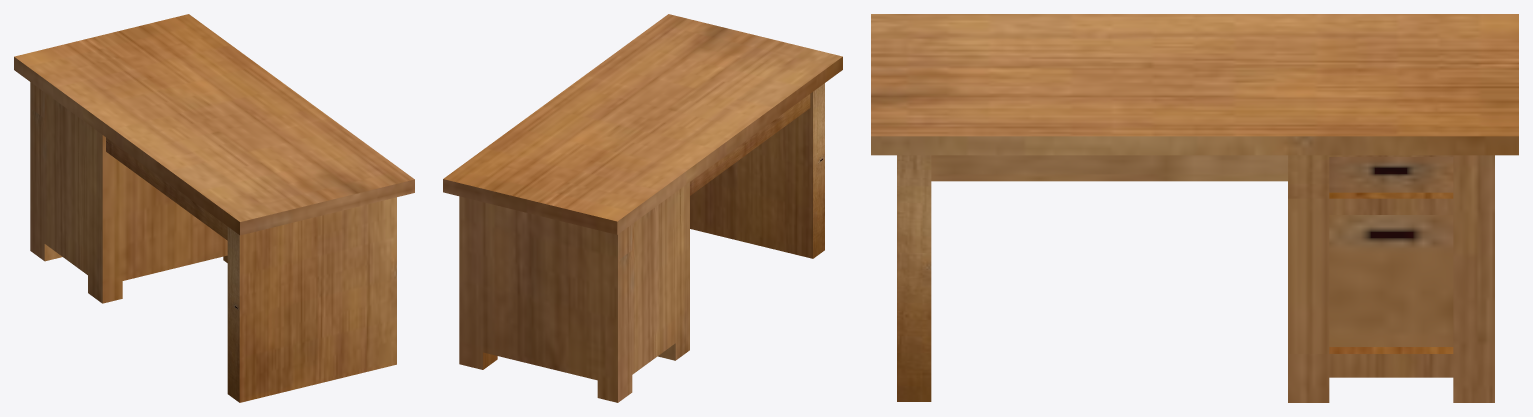
File: table (1).fbx
3 renders of one model, left to right at view 1: azimuth 30°, elevation 25°; view 2: azimuth 150°, elevation 25°; view 3: azimuth 270°, elevation 25°, orthographic. The views are drawn at different scales.
Visible parts, largest first — view 1: Cube, Cube.001, Cube.002, Cube.003; view 2: Cube, Cube.002, Cube.001, Cube.003; view 3: Cube, Cube.002, Cube.003, Cube.001.
Boxes of the visible parts, box(x1,y1,x2,y2) form: Cube: box(14, 14, 414, 235); Cube.001: box(227, 197, 396, 402); Cube.002: box(30, 82, 227, 303); Cube.003: box(106, 137, 227, 240); Cube: box(443, 14, 842, 234); Cube.002: box(459, 182, 689, 402); Cube.001: box(690, 83, 824, 258); Cube.003: box(690, 94, 810, 195); Cube: box(871, 14, 1518, 155); Cube.002: box(1288, 155, 1494, 402); Cube.003: box(931, 155, 1287, 181); Cube.001: box(897, 155, 931, 401).
Size of the model in its own units: 400 by 415 by 896.
2 materials, 2 textured.
